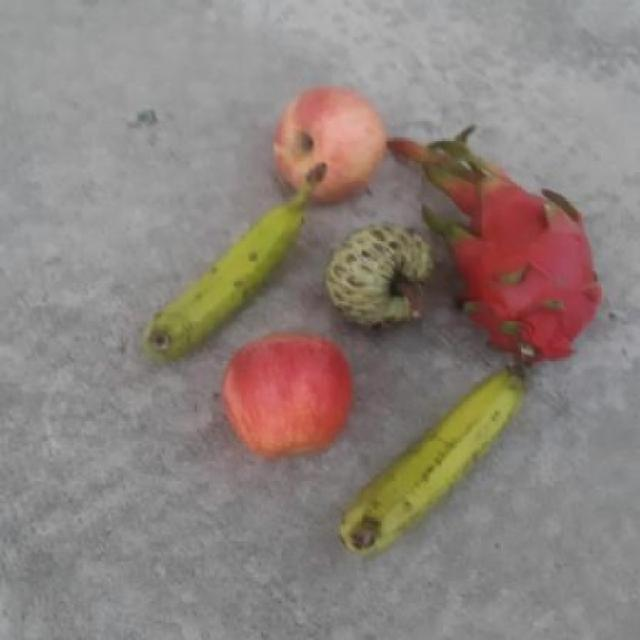apple: (218, 329, 364, 460), (269, 82, 389, 207)
banana: (139, 160, 330, 363), (337, 366, 526, 554)
dragon fruit: (446, 151, 603, 368)
sugar apple: (327, 221, 436, 334)
